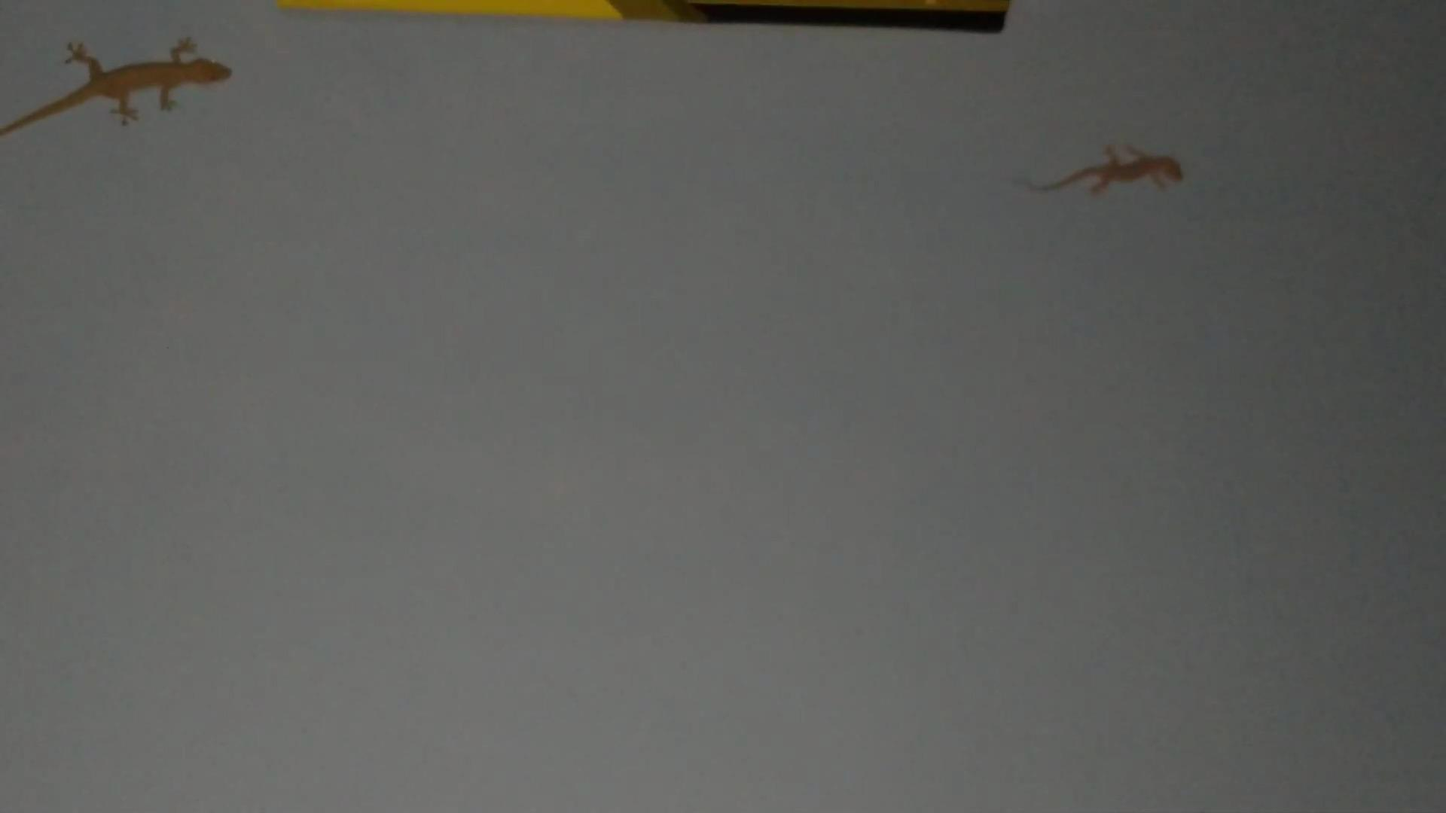lizard: (0, 5, 232, 140), (1027, 121, 1216, 225)
